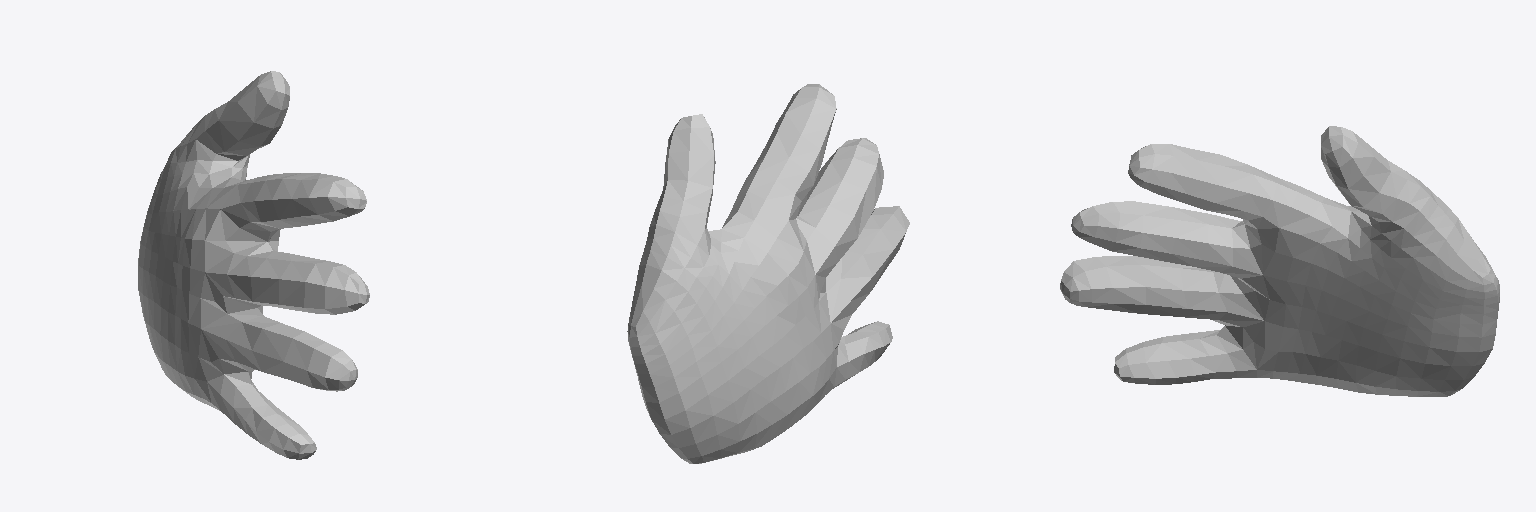
Rendered from hand-free.obj.
The picture shows the model from 3 angles: view 1: azimuth 30°, elevation 25°; view 2: azimuth 150°, elevation 25°; view 3: azimuth 270°, elevation 25°; orthographic projection.
Parts seen in each view (by area): view 1: object0; view 2: object0; view 3: object0.
Boxes of the visible parts, x1,y1,x2,y2 form: object0: [138, 71, 369, 459]; object0: [627, 84, 909, 463]; object0: [1060, 126, 1499, 396].
Bounding box in the file's own units: 0.0531 × 0.121 × 0.1595.